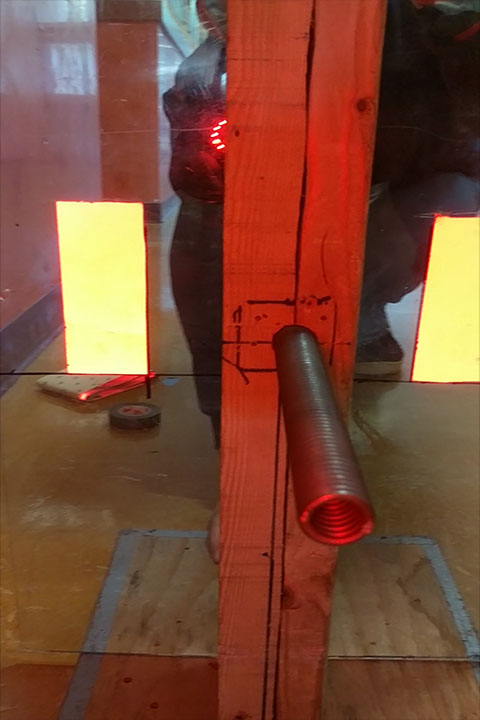gear: (56, 200, 149, 375), (412, 215, 480, 383)
